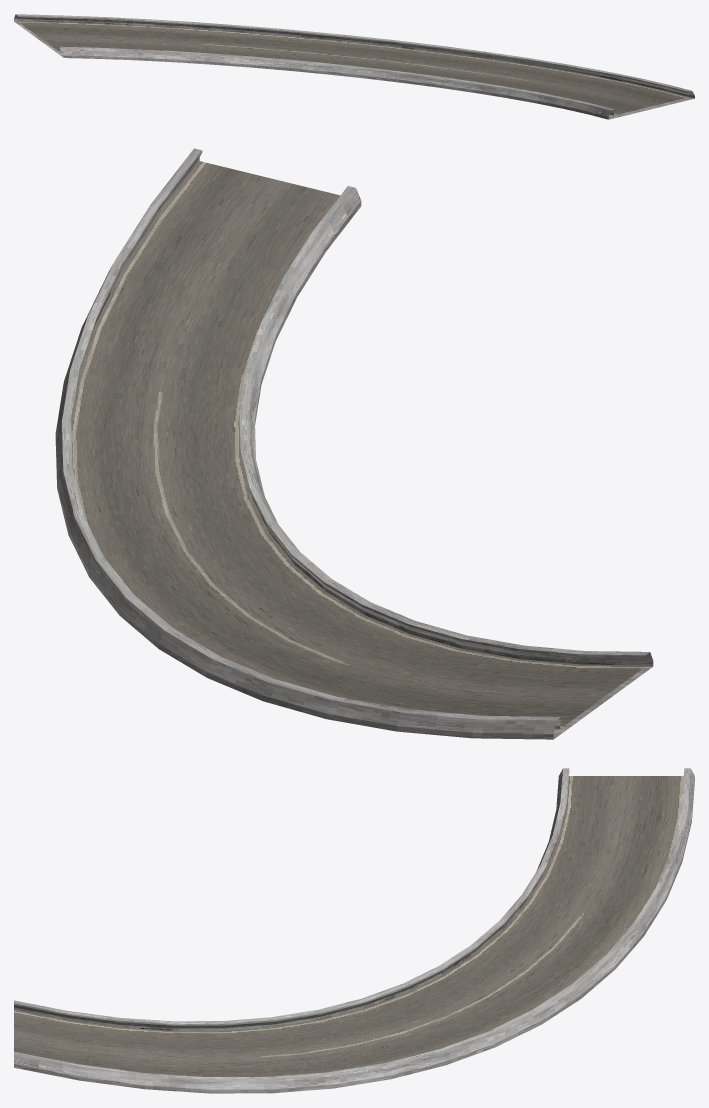
Rendered from road-Turn-BiSlopeDown-BiSlopeUp-Even-Left-Size5.glb.
3 views of the same model, one above another, from view 1: azimuth 30°, elevation 25°; view 2: azimuth 150°, elevation 25°; view 3: azimuth 270°, elevation 25° (orthographic). The views are drawn at different scales.
Parts seen in each view (by area): view 1: road-Turn-BiSlopeDown-BiSlopeUp-Even-Left-Size5; view 2: road-Turn-BiSlopeDown-BiSlopeUp-Even-Left-Size5; view 3: road-Turn-BiSlopeDown-BiSlopeUp-Even-Left-Size5.
Part boxes in pixels (x1,y1,x2,y2): road-Turn-BiSlopeDown-BiSlopeUp-Even-Left-Size5: [14, 14, 694, 119]; road-Turn-BiSlopeDown-BiSlopeUp-Even-Left-Size5: [55, 148, 653, 739]; road-Turn-BiSlopeDown-BiSlopeUp-Even-Left-Size5: [14, 768, 694, 1093].
Size of the model in its own units: 5 by 0.6114 by 5.
2 materials, 2 textured.
